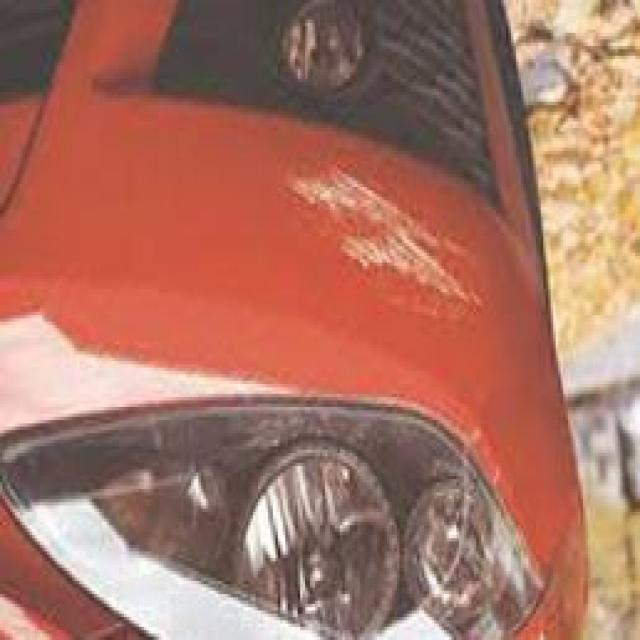scratch: (272, 128, 497, 332)
